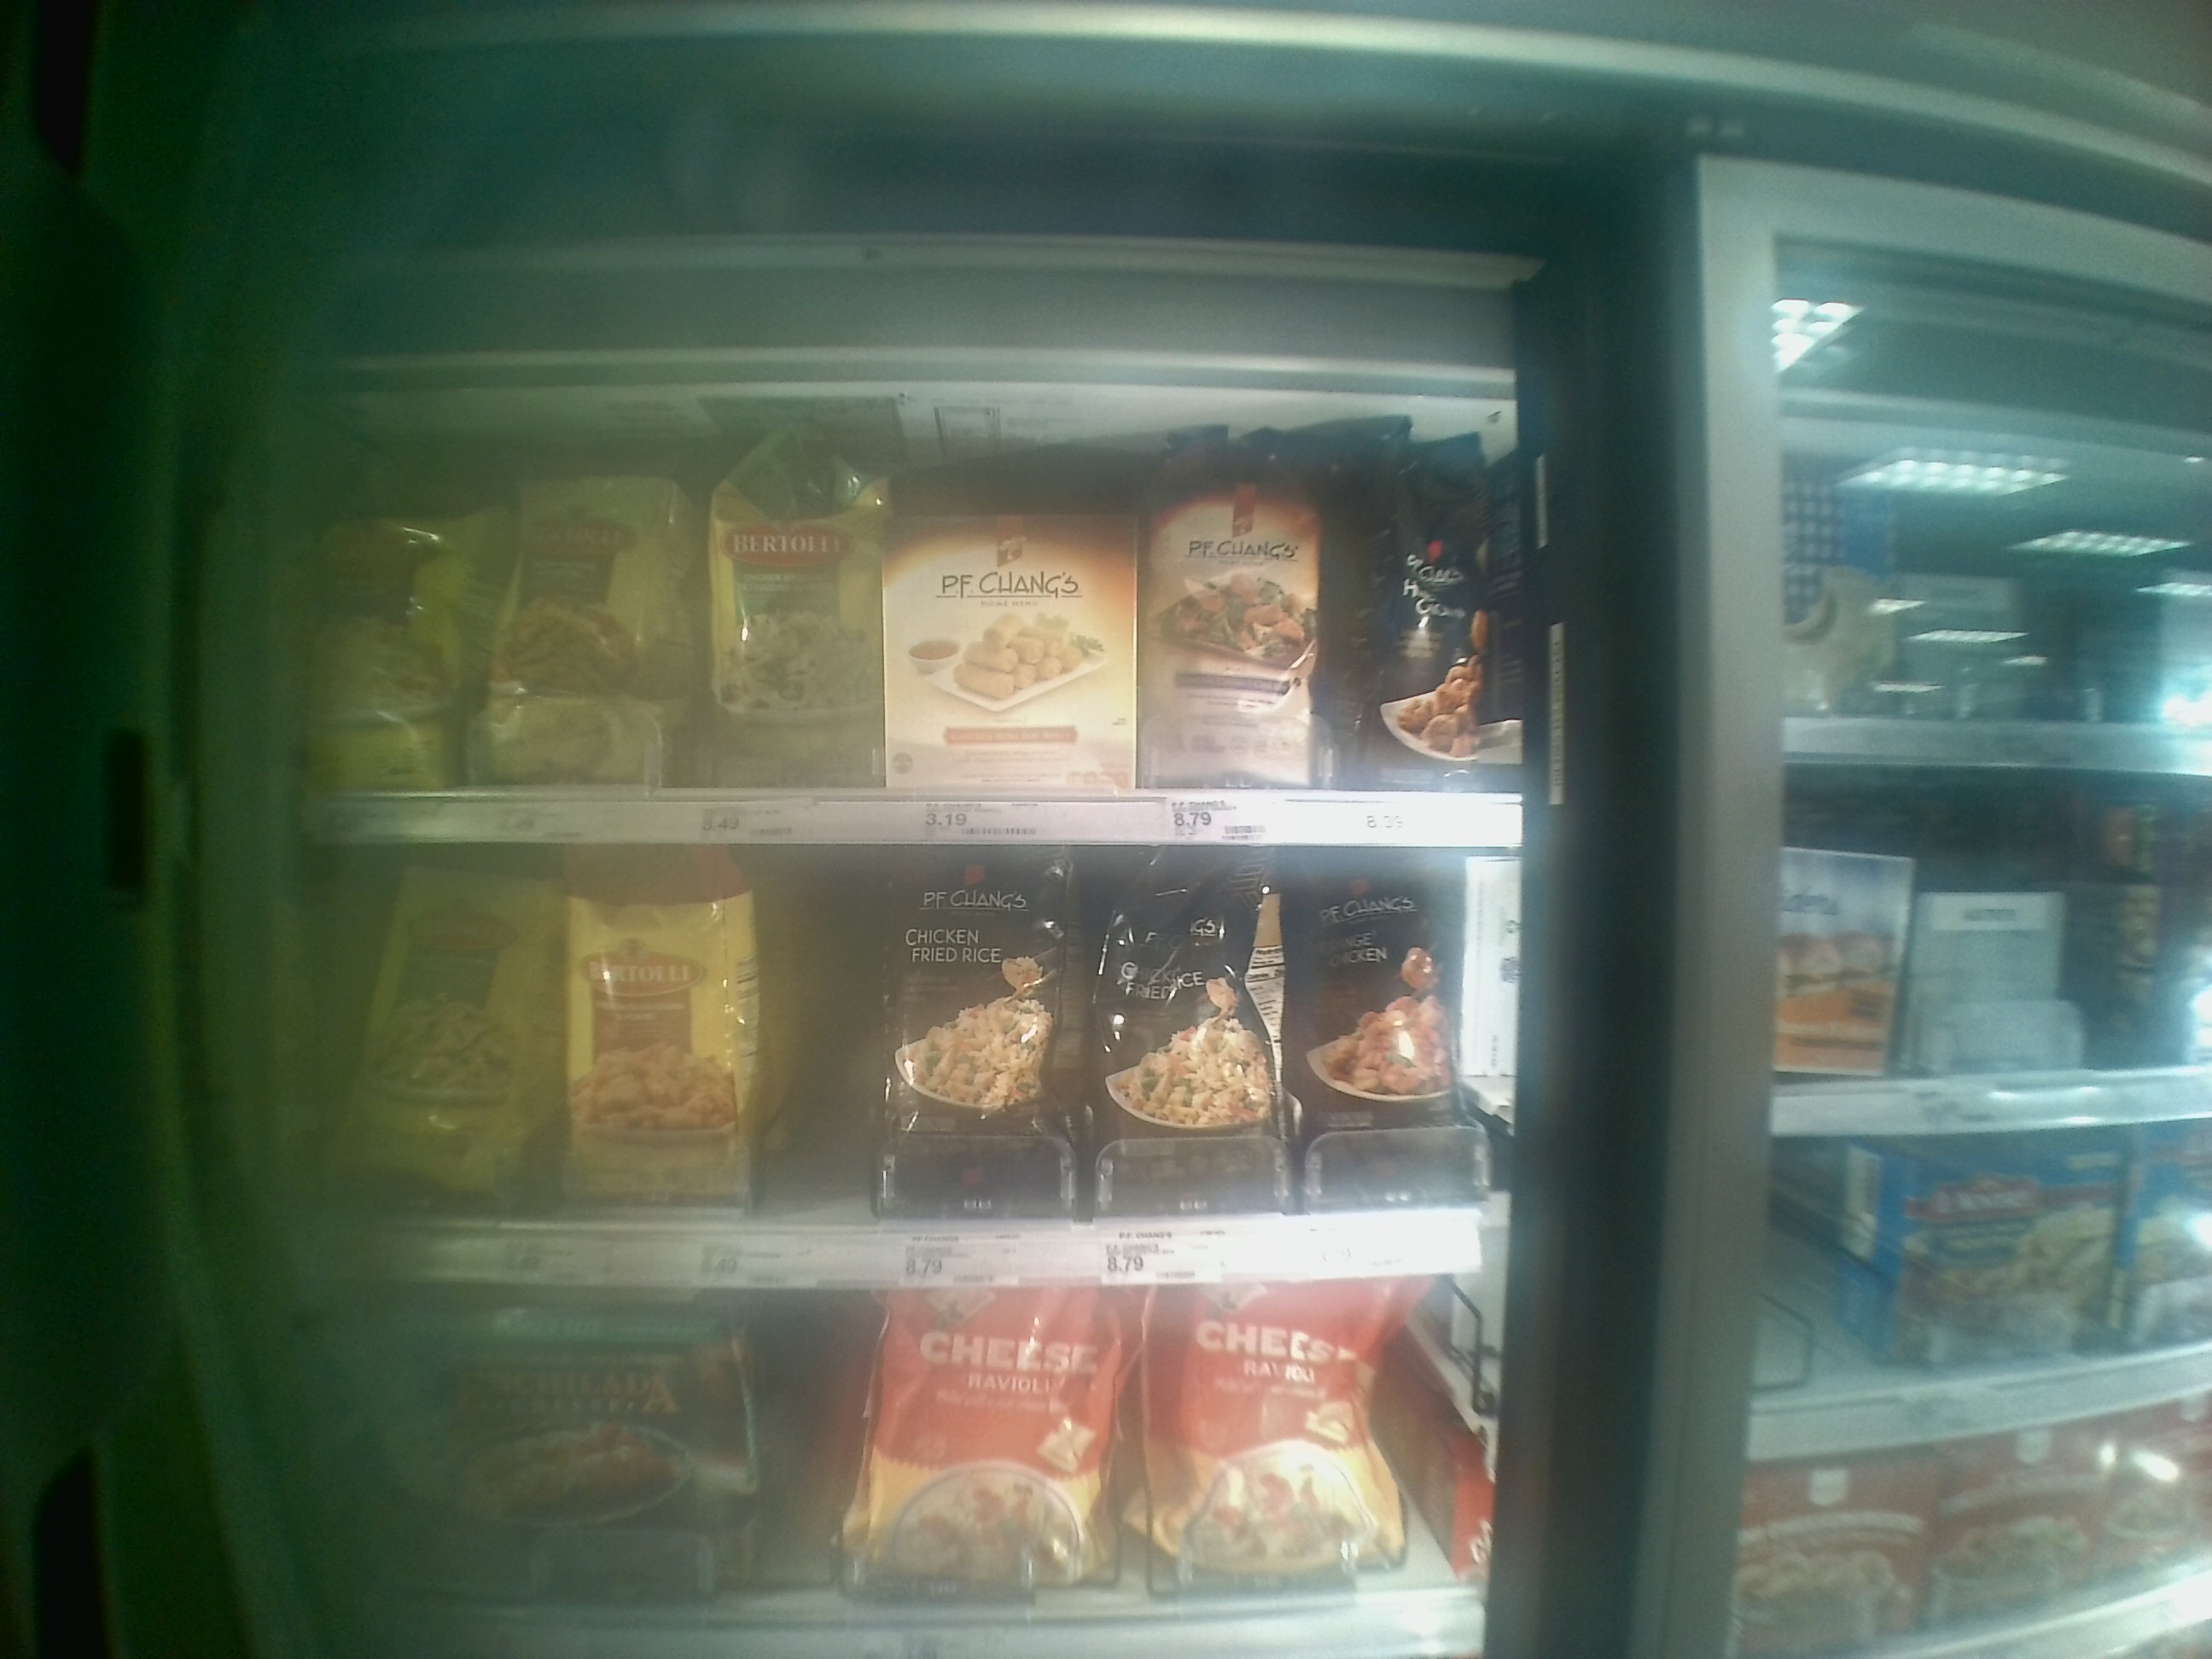shelf: (294, 336, 1529, 852), (307, 829, 1503, 1270)
